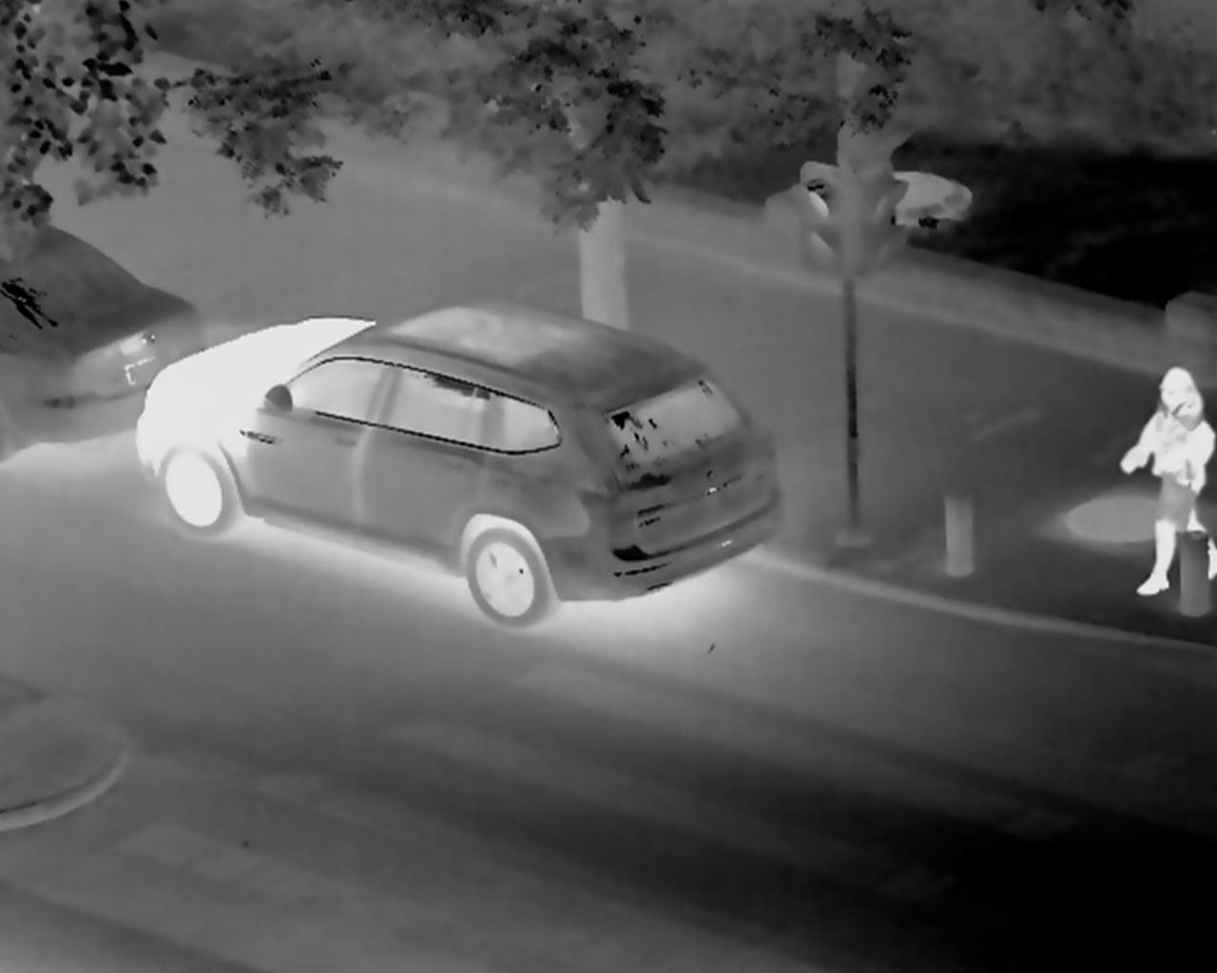person: (1143, 369, 1211, 594)
